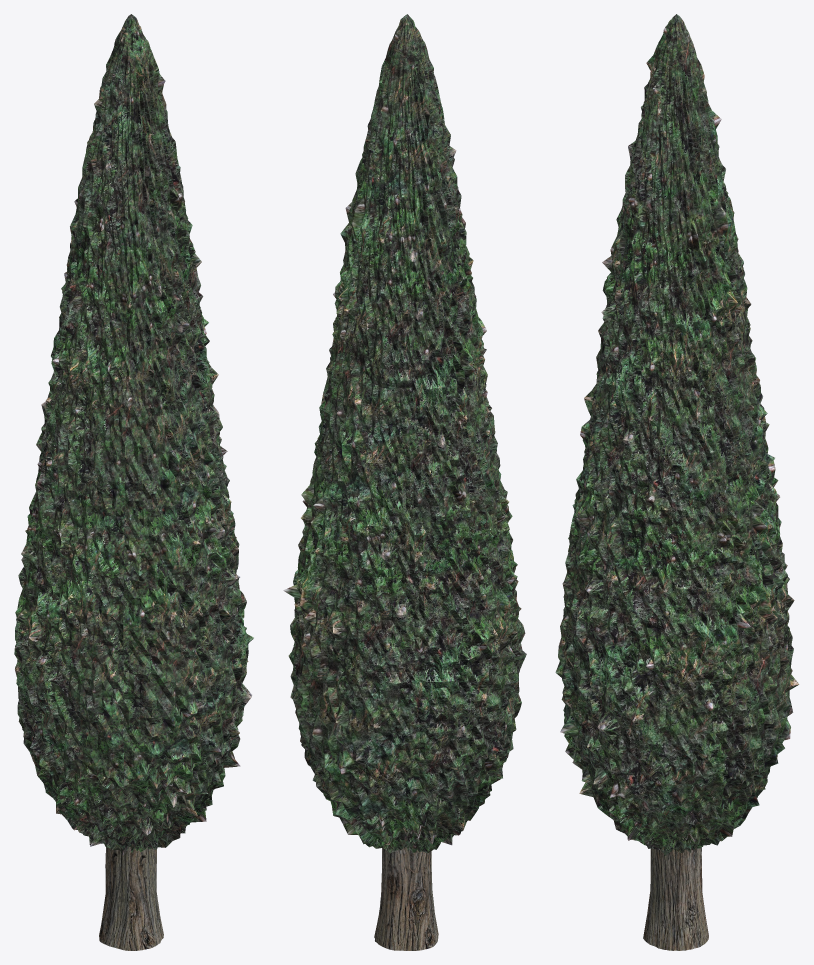
File: cypress.obj
3 views of the same model, side by side, from view 1: azimuth 30°, elevation 25°; view 2: azimuth 150°, elevation 25°; view 3: azimuth 270°, elevation 25° (orthographic).
Parts seen in each view (by area): view 1: Leaves_Circle, Trunk_Circle.001; view 2: Leaves_Circle, Trunk_Circle.001; view 3: Leaves_Circle, Trunk_Circle.001.
Boxes of the visible parts, <box> form: Leaves_Circle: <box>14,14,253,855</box>; Trunk_Circle.001: <box>99,846,163,950</box>; Leaves_Circle: <box>283,14,526,853</box>; Trunk_Circle.001: <box>374,846,438,950</box>; Leaves_Circle: <box>555,14,799,856</box>; Trunk_Circle.001: <box>643,847,708,950</box>.
Bounding box in the file's own units: 132 × 560 × 134.
